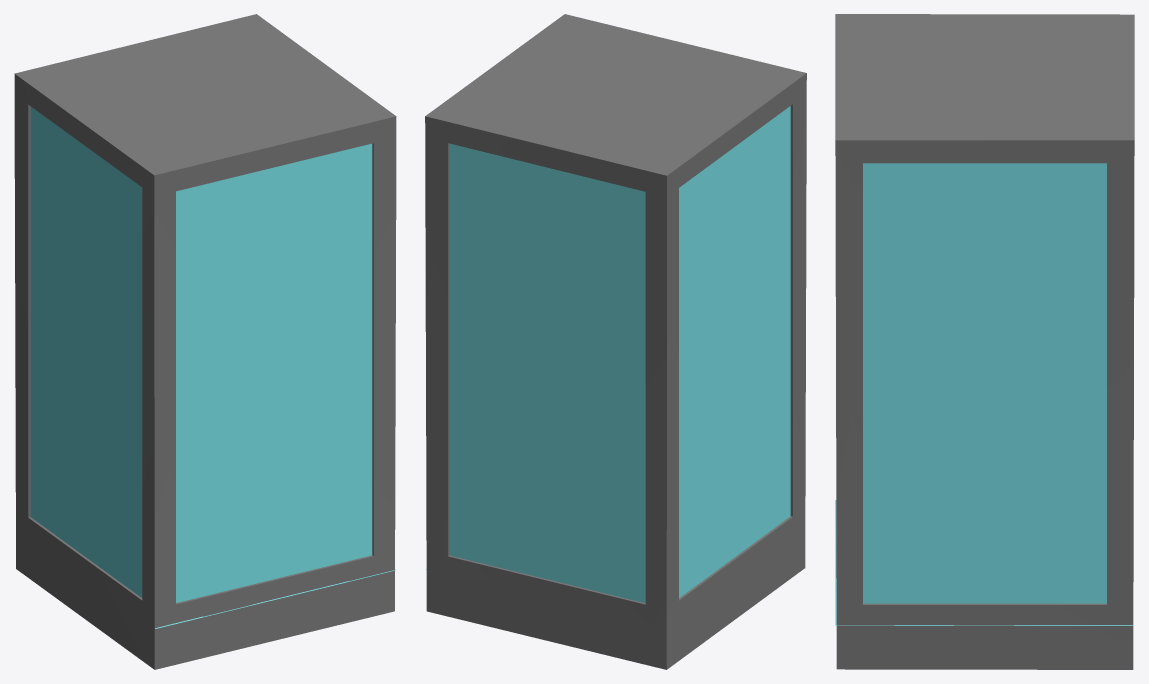
Rendered from Aquarium.fbx.
The picture shows the model from 3 angles, left to right: view 1: azimuth 30°, elevation 25°; view 2: azimuth 150°, elevation 25°; view 3: azimuth 270°, elevation 25°; orthographic projection. The views are drawn at different scales.
Parts seen in each view (by area): view 1: Aquariom; view 2: Aquariom; view 3: Aquariom.
Boxes of the visible parts, x1,y1,x2,y2 form: Aquariom: [14, 14, 396, 669]; Aquariom: [425, 14, 806, 669]; Aquariom: [835, 14, 1134, 669].
Size of the model in its own units: 1.03 by 2.01 by 1.03.
